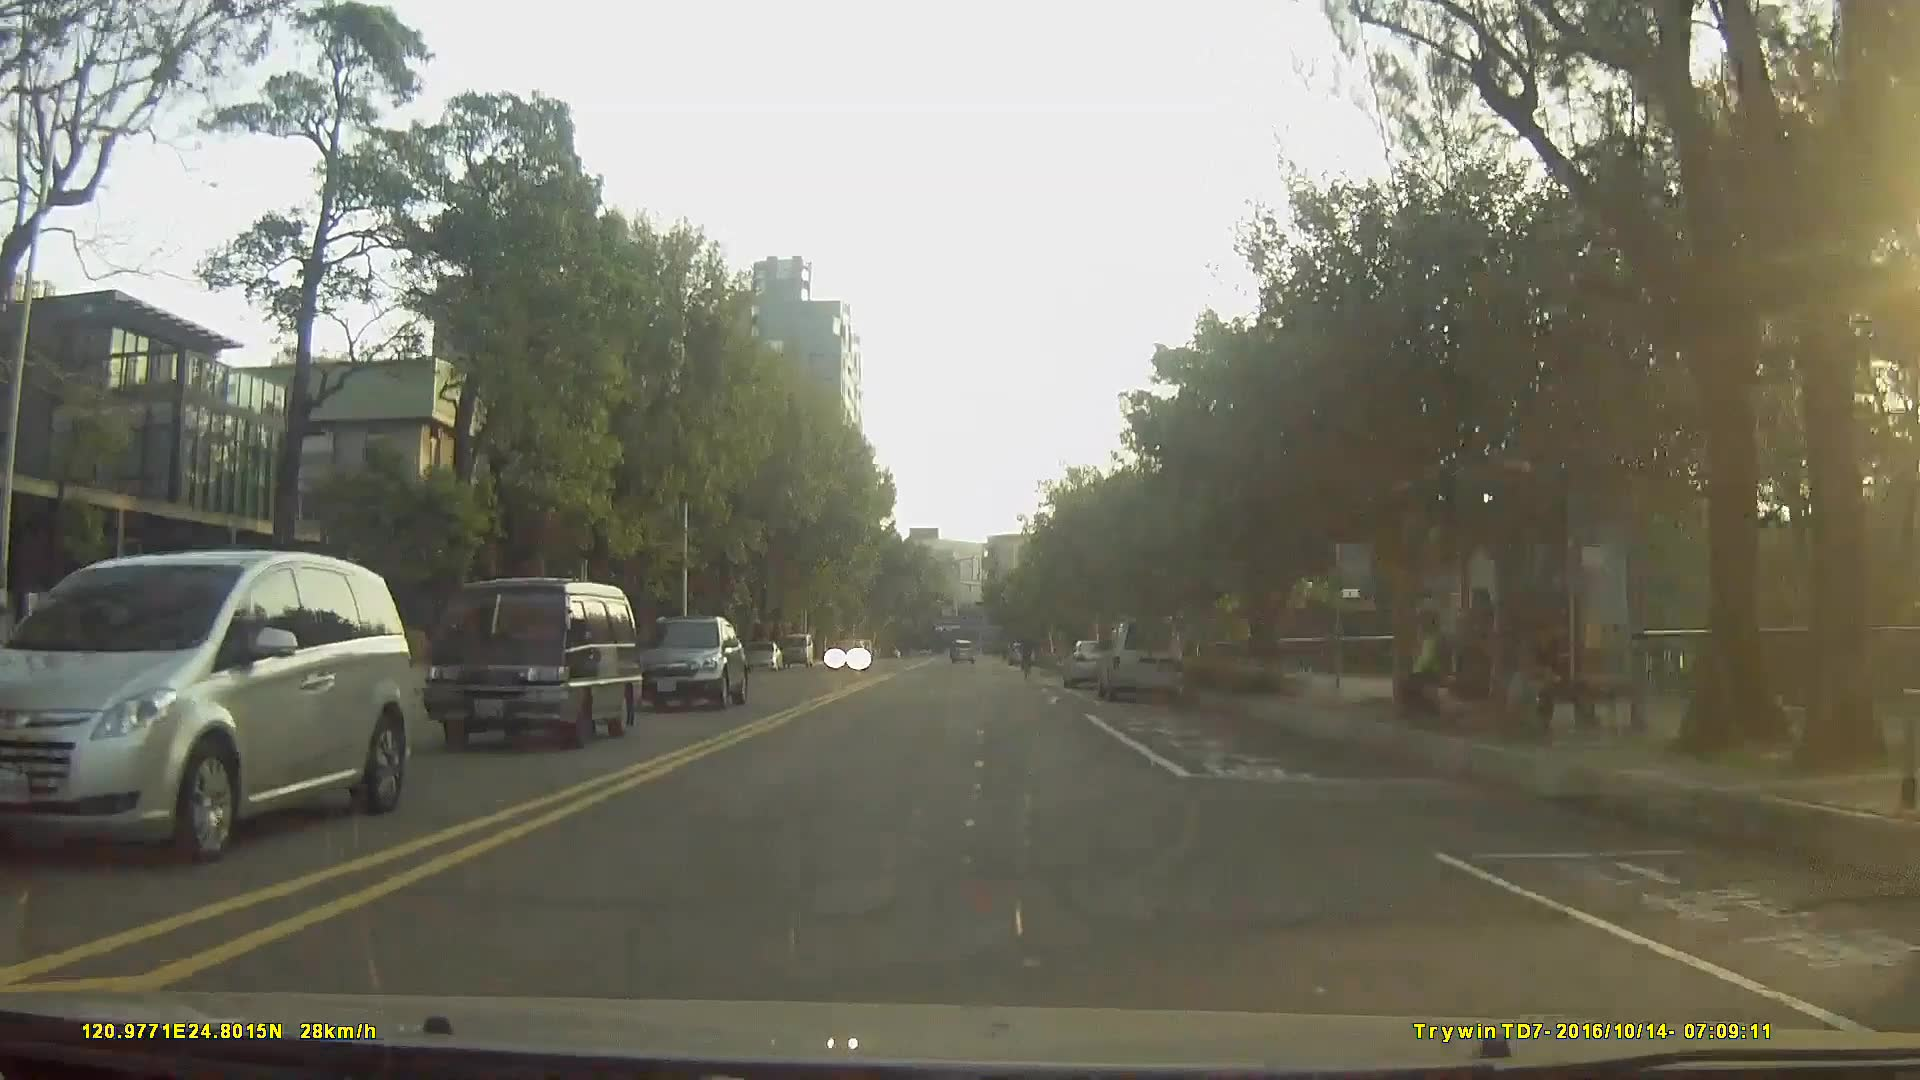pedestrian: (1432, 590, 1504, 732), (1498, 623, 1560, 739), (1400, 614, 1456, 722)
rider: (1017, 632, 1037, 689)
vehicle: (0, 555, 409, 859), (422, 576, 639, 752), (627, 613, 747, 705), (1098, 616, 1183, 702), (1063, 637, 1120, 688), (825, 636, 872, 670), (742, 639, 781, 672), (781, 632, 815, 667), (947, 638, 972, 661)
